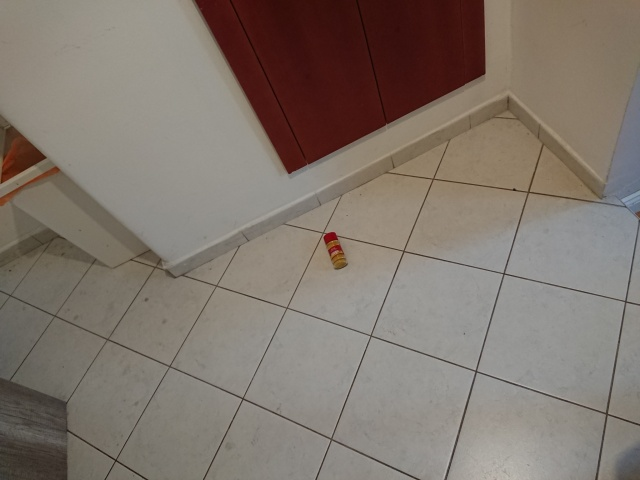Kotanyi Curry Spices Mix 70g: (322, 231, 349, 271)
